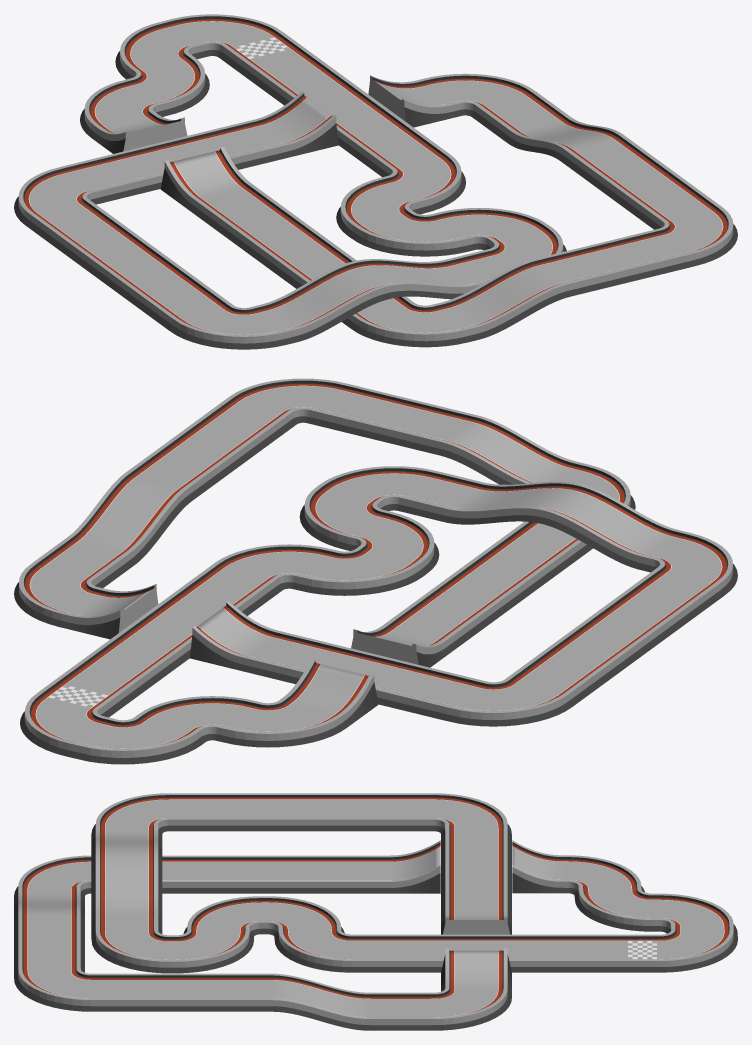
The model's file is track2.fbx.
The picture shows the model from 3 angles, top to bottom: view 1: azimuth 30°, elevation 25°; view 2: azimuth 150°, elevation 25°; view 3: azimuth 270°, elevation 25°; orthographic projection. The views are drawn at different scales.
Parts seen in each view (by area): view 1: track2; view 2: track2; view 3: track2.
Boxes of the visible parts, x1=… form: track2: x1=14, y1=14, x2=737, y2=349; track2: x1=14, y1=378, x2=737, y2=764; track2: x1=14, y1=793, x2=737, y2=1030.
Size of the model in its own units: 129 by 7.71 by 173.
